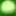white: (0, 0, 16, 16)
